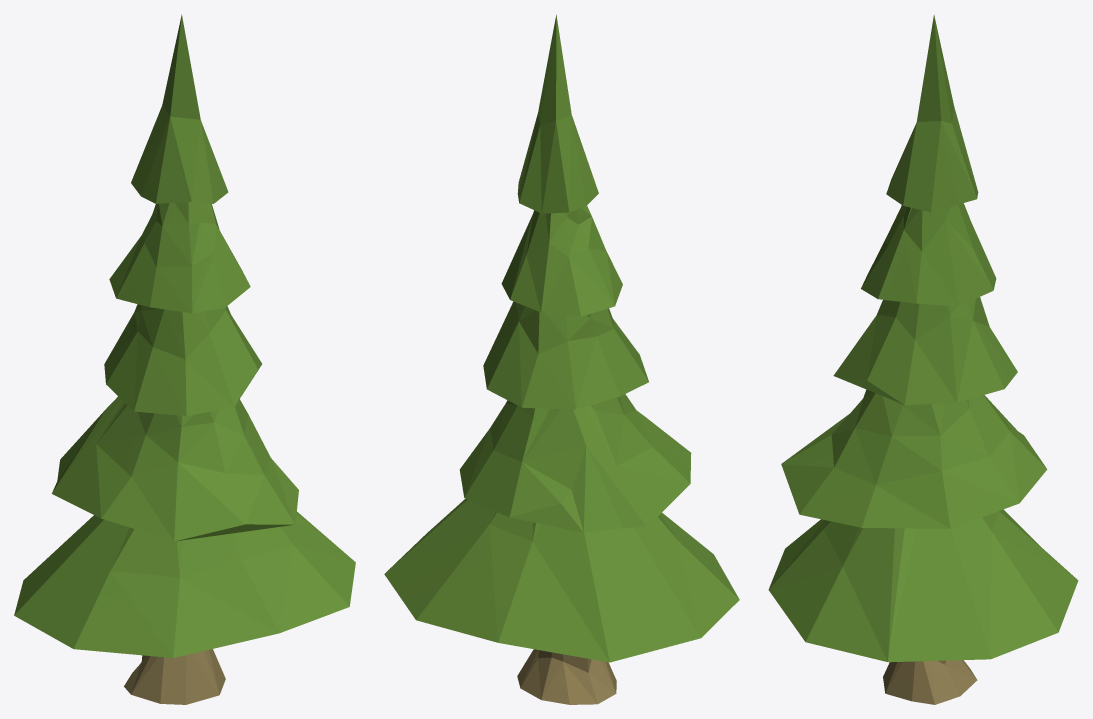
Rendered from LowPoly - FirTree 02.fbx.
3 views of the same model, side by side, from view 1: azimuth 30°, elevation 25°; view 2: azimuth 150°, elevation 25°; view 3: azimuth 270°, elevation 25° (orthographic).
Parts seen in each view (by area): view 1: LowPoly - FirTree 02; view 2: LowPoly - FirTree 02; view 3: LowPoly - FirTree 02.
Part boxes in pixels (x1,y1,x2,y2): LowPoly - FirTree 02: (14,14,355,704); LowPoly - FirTree 02: (384,14,739,704); LowPoly - FirTree 02: (768,14,1078,704).
Bounding box in the file's own units: 327 × 680 × 284.
